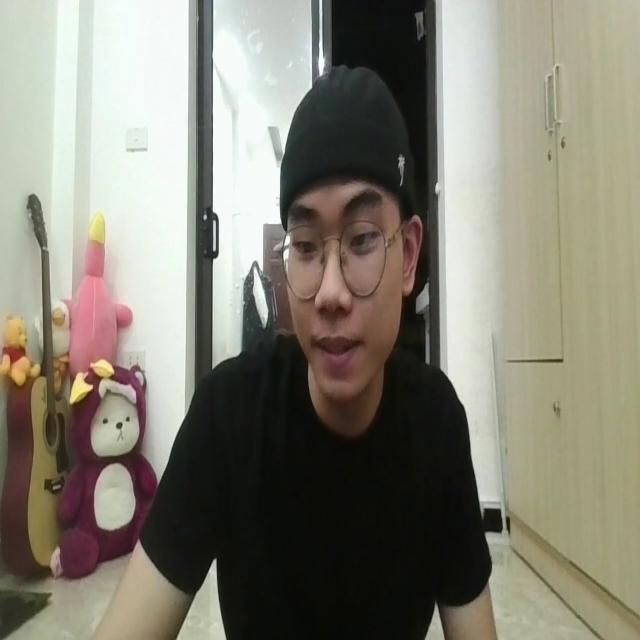student: (106, 59, 505, 640)
